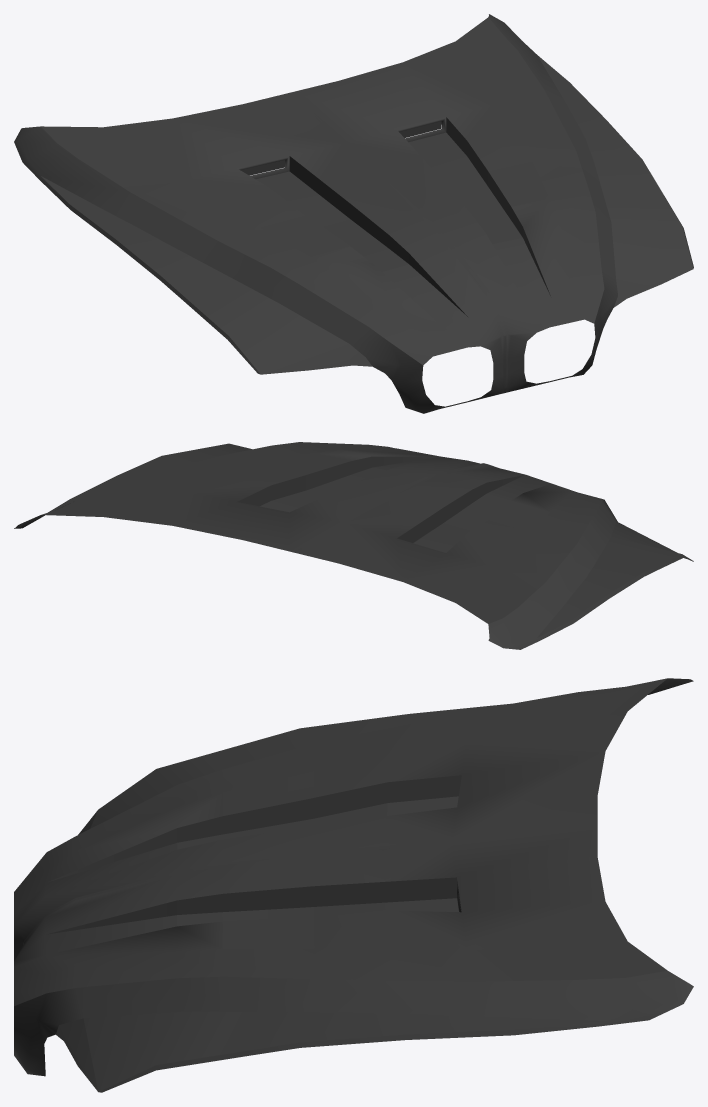
File: Hood3.fbx
3 views of the same model, one above another, from view 1: azimuth 30°, elevation 25°; view 2: azimuth 150°, elevation 25°; view 3: azimuth 270°, elevation 25° (orthographic). The views are drawn at different scales.
Visible parts, largest first — view 1: CarColorObject.021, CarColorObject.020; view 2: CarColorObject.021; view 3: CarColorObject.021.
Part boxes in pixels (x1,y1,x2,y2): CarColorObject.021: (14, 14, 693, 413); CarColorObject.020: (240, 121, 441, 175); CarColorObject.021: (14, 442, 693, 649); CarColorObject.021: (14, 678, 693, 1092).
Size of the model in its own units: 174 by 48.85 by 152.
